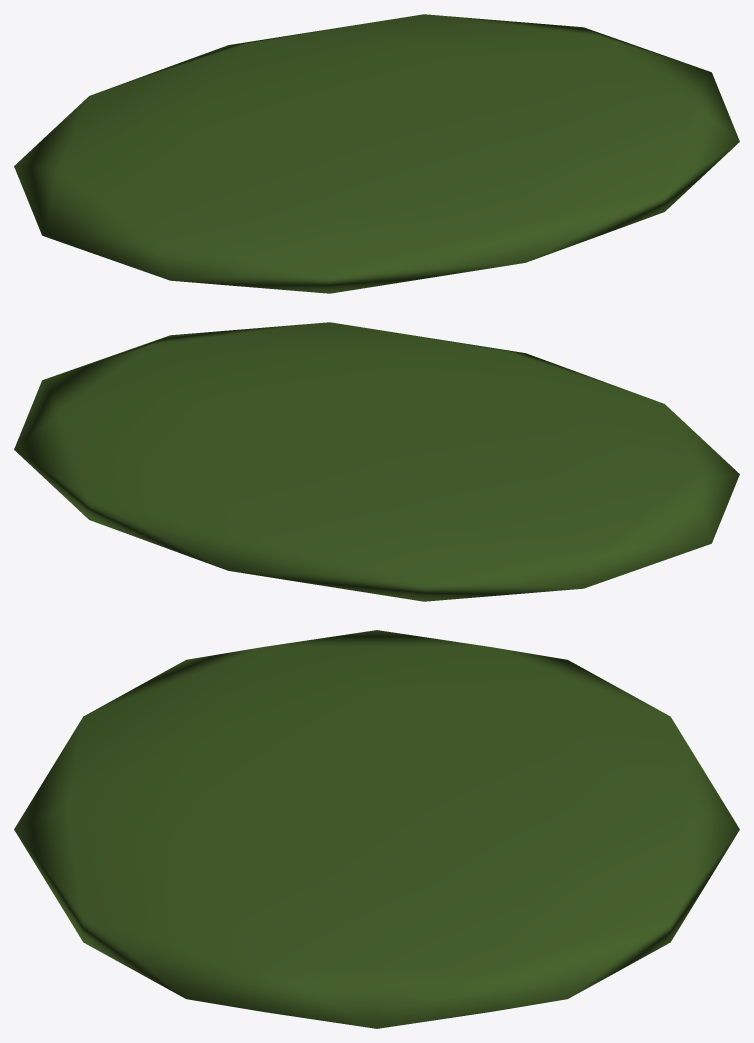
The model's file is moss.0726c2ef.glb.
3 views of the same model, one above another, from view 1: azimuth 30°, elevation 25°; view 2: azimuth 150°, elevation 25°; view 3: azimuth 270°, elevation 25° (orthographic). The views are drawn at different scales.
Parts seen in each view (by area): view 1: body; view 2: body; view 3: body.
Boxes of the visible parts, <box> form: body: <box>14,14,739,293</box>; body: <box>14,322,739,601</box>; body: <box>14,630,739,1028</box>.
Size of the model in its own units: 0.26 by 0.026 by 0.2.
